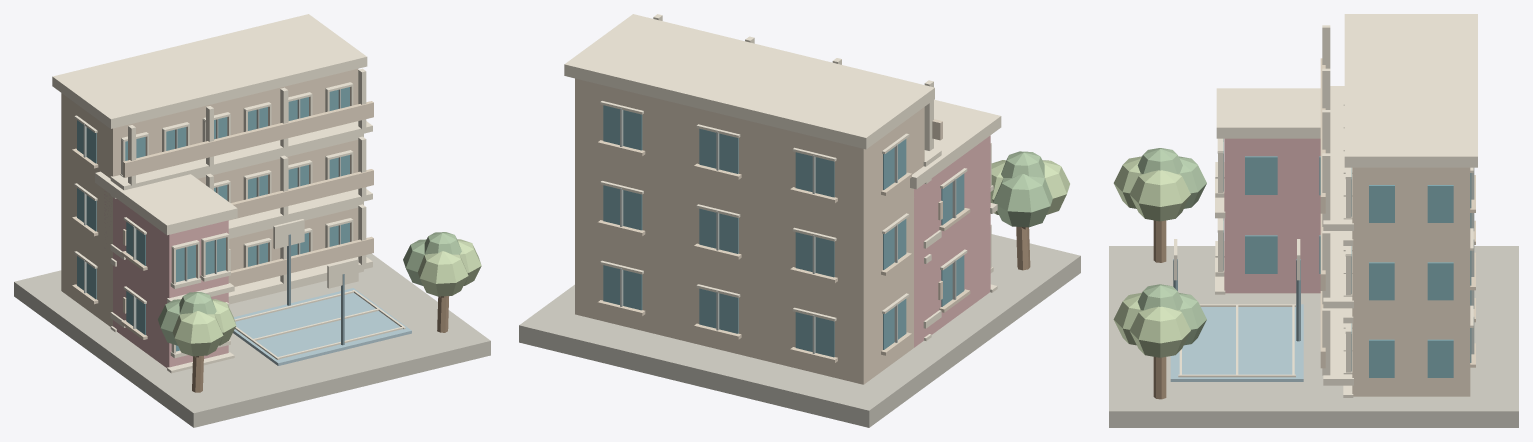
Rendered from dot-tpl-school.glb.
The picture shows the model from 3 angles, left to right: view 1: azimuth 30°, elevation 25°; view 2: azimuth 150°, elevation 25°; view 3: azimuth 270°, elevation 25°; orthographic projection. The views are drawn at different scales.
Parts seen in each view (by area): view 1: paving; view 2: paving; view 3: paving.
Part boxes in pixels (<box>): paving: <box>14,14,490,427</box>; paving: <box>519,14,1080,427</box>; paving: <box>1109,14,1518,427</box>.
Bounding box in the file's own units: 4 × 2.8 × 4.
Materials: 1 (1 with a texture image).
